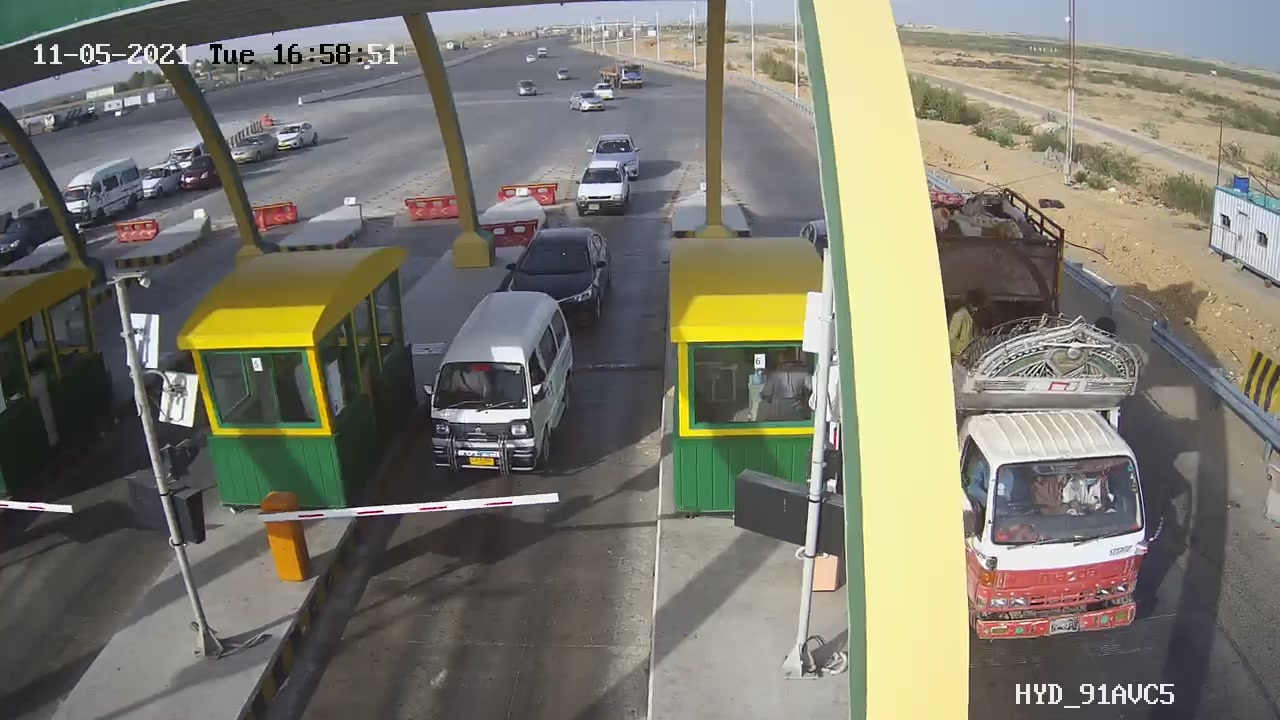F1: (401, 277, 592, 494)
